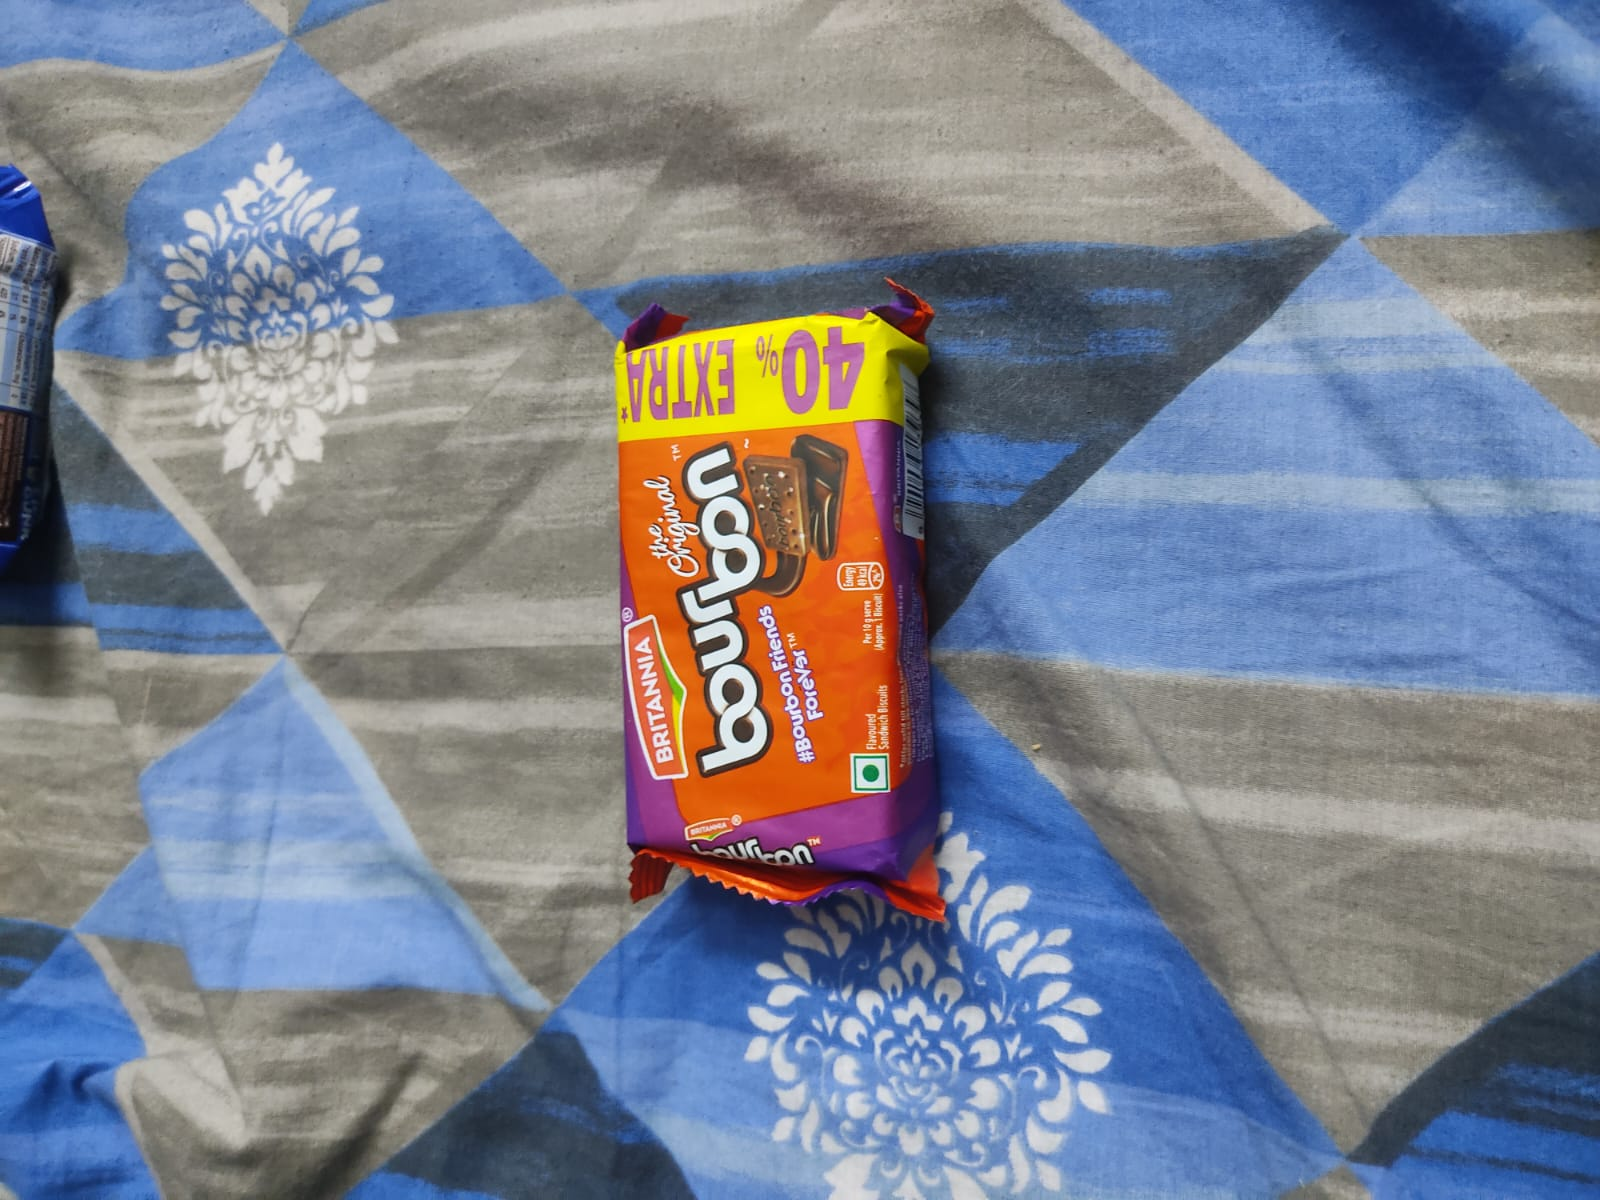010_Bourbon: (612, 310, 929, 862)
